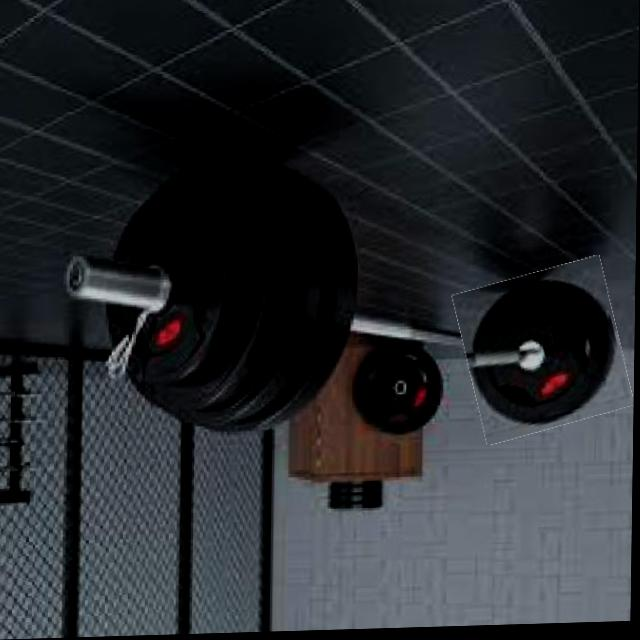barbell: (107, 149, 368, 448), (460, 266, 630, 442)
